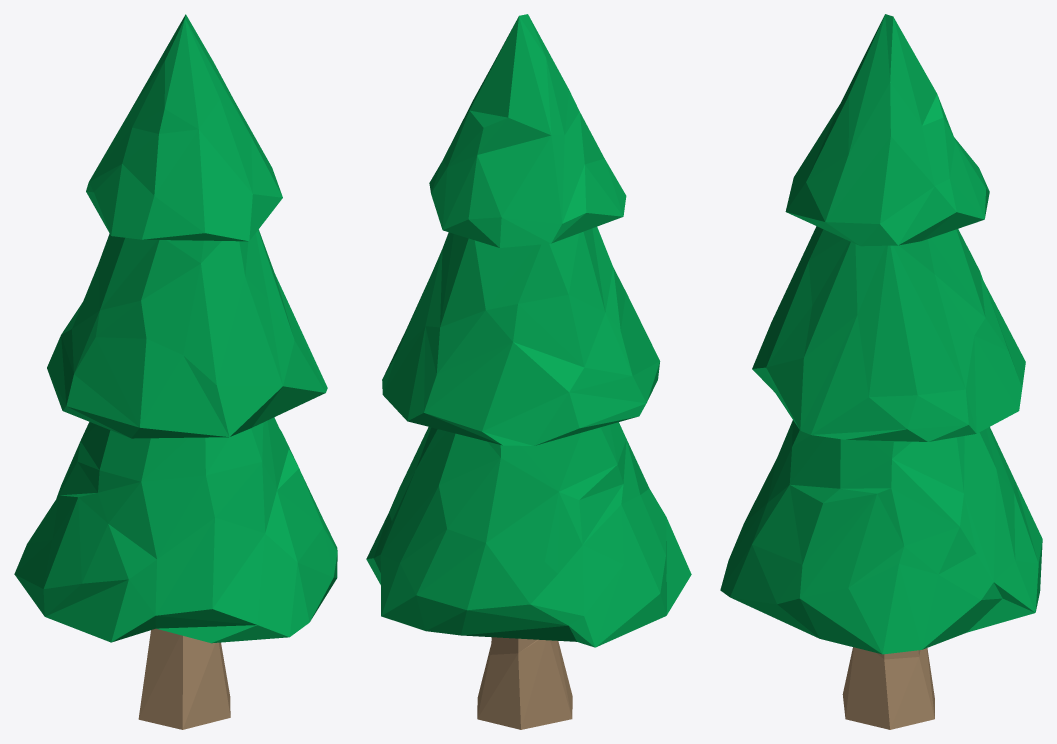
Rendered from Pine2.fbx.
The picture shows the model from 3 angles, left to right: view 1: azimuth 30°, elevation 25°; view 2: azimuth 150°, elevation 25°; view 3: azimuth 270°, elevation 25°; orthographic projection.
Parts seen in each view (by area): view 1: pasted__pasted__pCylinder2, pasted__pasted__pCylinder3; view 2: pasted__pasted__pCylinder2, pasted__pasted__pCylinder3; view 3: pasted__pasted__pCylinder2, pasted__pasted__pCylinder3.
Boxes of the visible parts, <box> form: pasted__pasted__pCylinder2: <box>14,14,337,643</box>; pasted__pasted__pCylinder3: <box>138,628,230,729</box>; pasted__pasted__pCylinder2: <box>366,14,691,647</box>; pasted__pasted__pCylinder3: <box>477,637,572,729</box>; pasted__pasted__pCylinder2: <box>720,14,1042,654</box>; pasted__pasted__pCylinder3: <box>842,647,934,729</box>.
Size of the model in its own units: 2.59 by 5.9 by 2.49.
